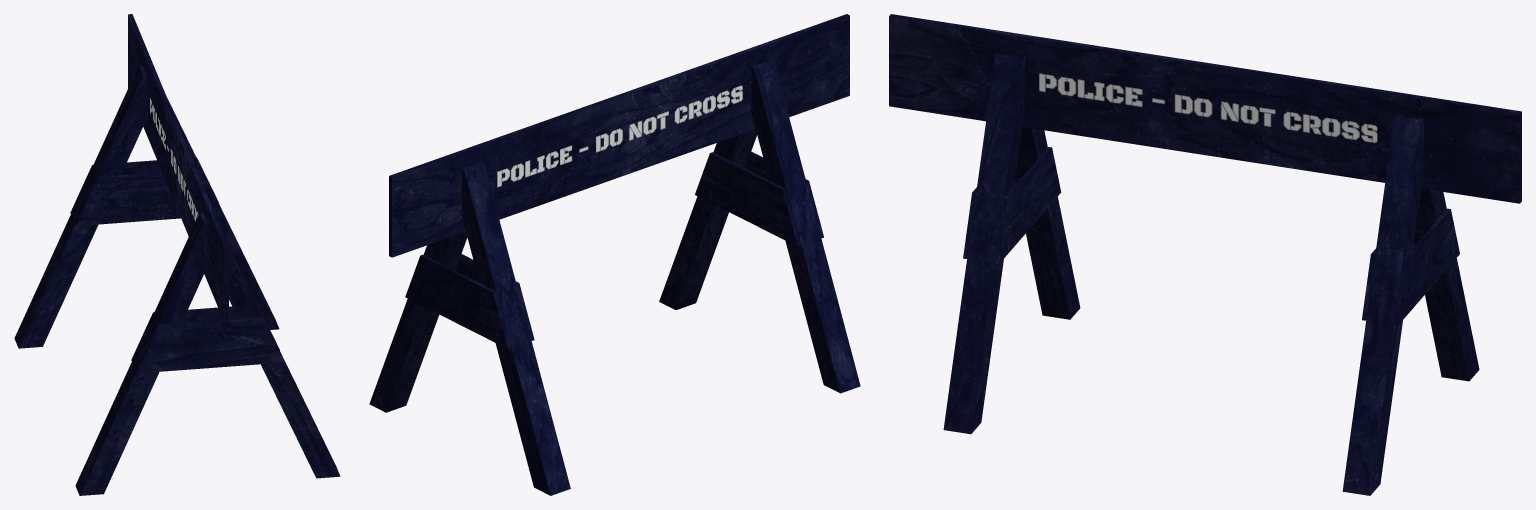
File: woodbar.glb
3 views of the same model, side by side, from view 1: azimuth 30°, elevation 25°; view 2: azimuth 150°, elevation 25°; view 3: azimuth 270°, elevation 25° (orthographic). The views are drawn at different scales.
Parts seen in each view (by area): view 1: woodbar; view 2: woodbar; view 3: woodbar.
Boxes of the visible parts, x1,y1,x2,y2 form: woodbar: (14,14,340,495); woodbar: (369,14,860,495); woodbar: (889,14,1521,495).
Bounding box in the file's own units: 1.35 × 1.1 × 1.88.
Materials: 1 (1 with a texture image).
